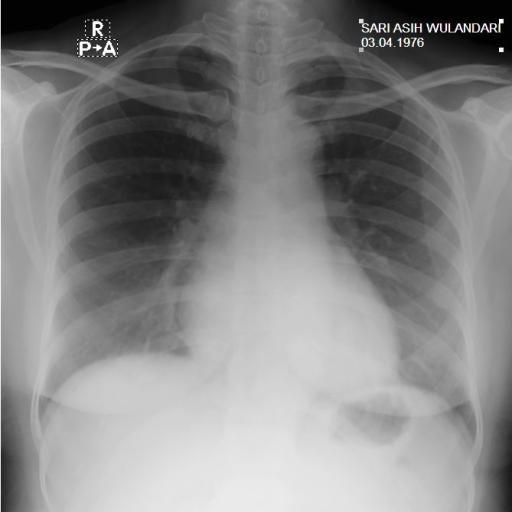kardiomegali: (29, 8, 486, 461)
